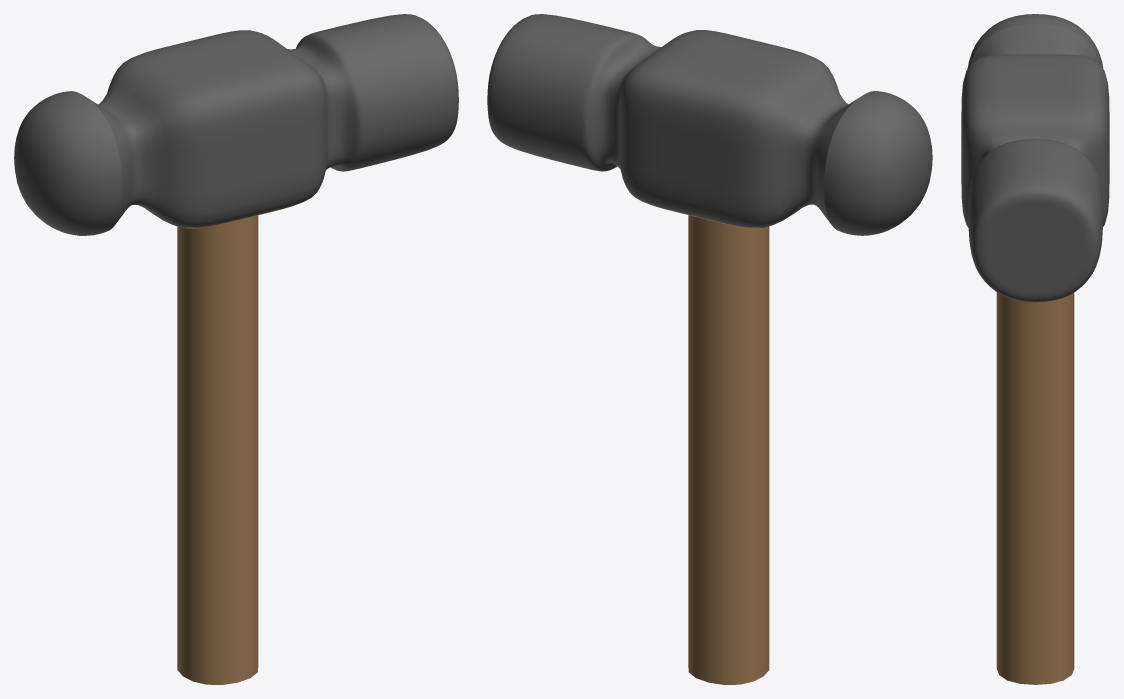
The model's file is HenryHammer.fbx.
3 renders of one model, left to right at view 1: azimuth 30°, elevation 25°; view 2: azimuth 150°, elevation 25°; view 3: azimuth 270°, elevation 25°, orthographic. The views are drawn at different scales.
Parts seen in each view (by area): view 1: Hammer; view 2: Hammer; view 3: Hammer.
Boxes of the visible parts, x1,y1,x2,y2 form: Hammer: (14,14,458,684); Hammer: (487,14,932,684); Hammer: (961,14,1109,684).
Size of the model in its own units: 1.85 by 0.6097 by 2.67.
